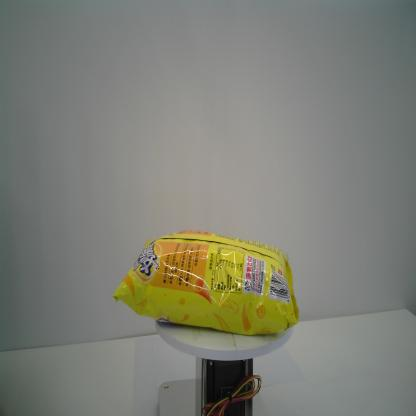Puffed Food: (110, 228, 300, 338)
